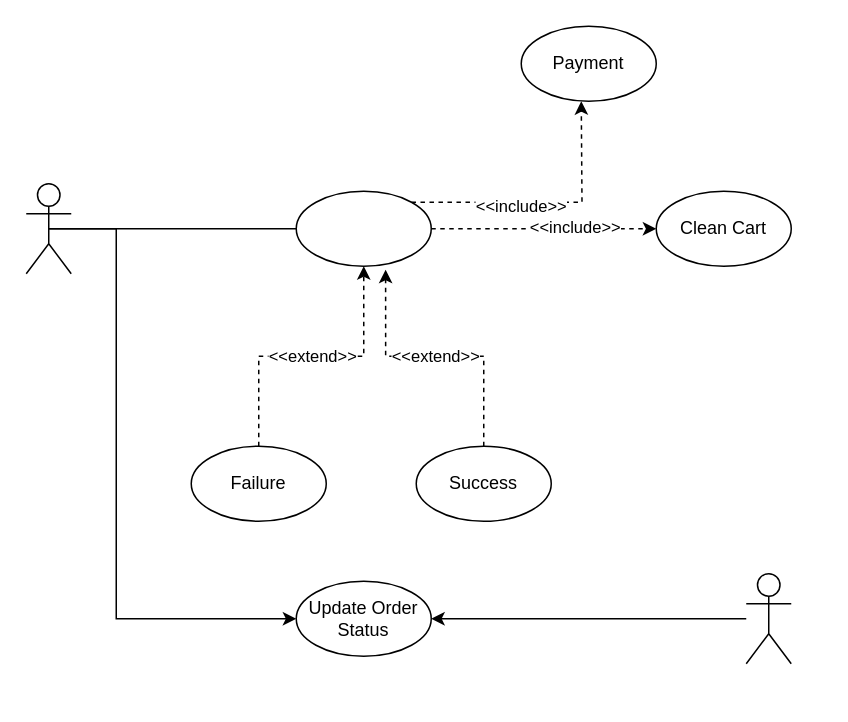
Image size: 848x722. Some labels were removed from this diagram. The box of each missing label's shape, as (x1, y1, x2, y2) in pixels:
Administrator: (745, 572, 791, 664)
Create Order: (295, 190, 431, 266)
User: (25, 182, 71, 274)
